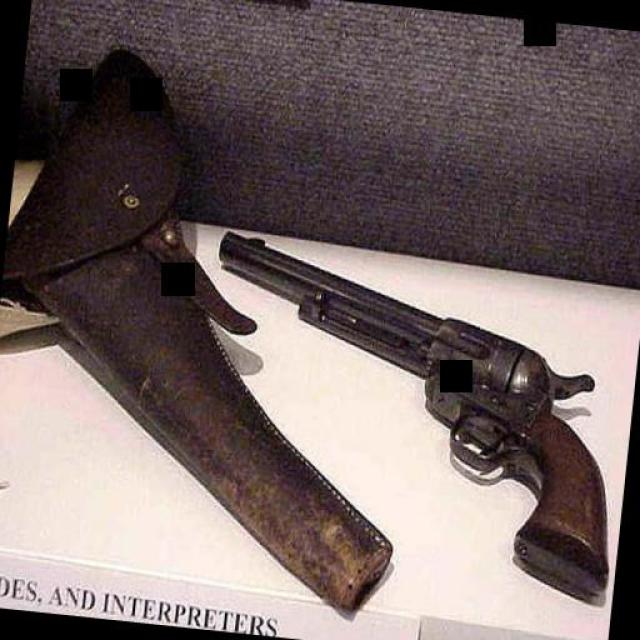gun: (187, 227, 638, 602)
